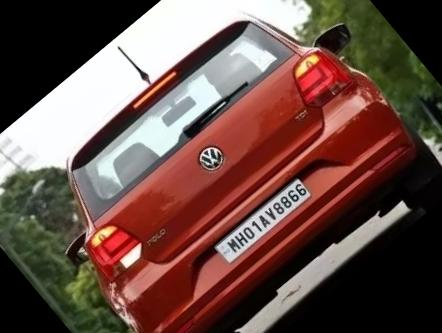plate: (202, 159, 332, 279)
